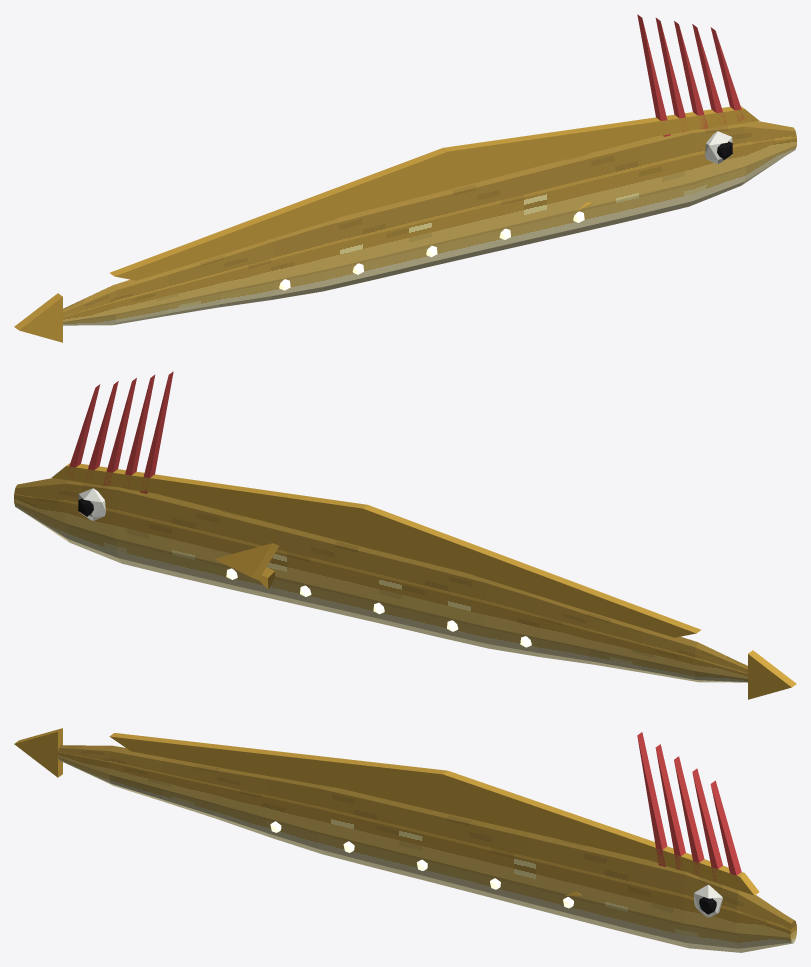
File: the_warden.glb
The picture shows the model from 3 angles, top to bottom: view 1: azimuth 30°, elevation 25°; view 2: azimuth 150°, elevation 25°; view 3: azimuth 330°, elevation 25°; orthographic projection.
Visible parts, largest first — view 1: fish_the_warden; view 2: fish_the_warden; view 3: fish_the_warden.
Boxes of the visible parts, left/top/right/bottom form: fish_the_warden: left=14, top=14, right=796, bottom=342; fish_the_warden: left=14, top=371, right=796, bottom=699; fish_the_warden: left=14, top=728, right=796, bottom=952.
Bounding box in the file's own units: 1.06 × 0.2642 × 0.0706.
Materials: 6 (1 with a texture image).
